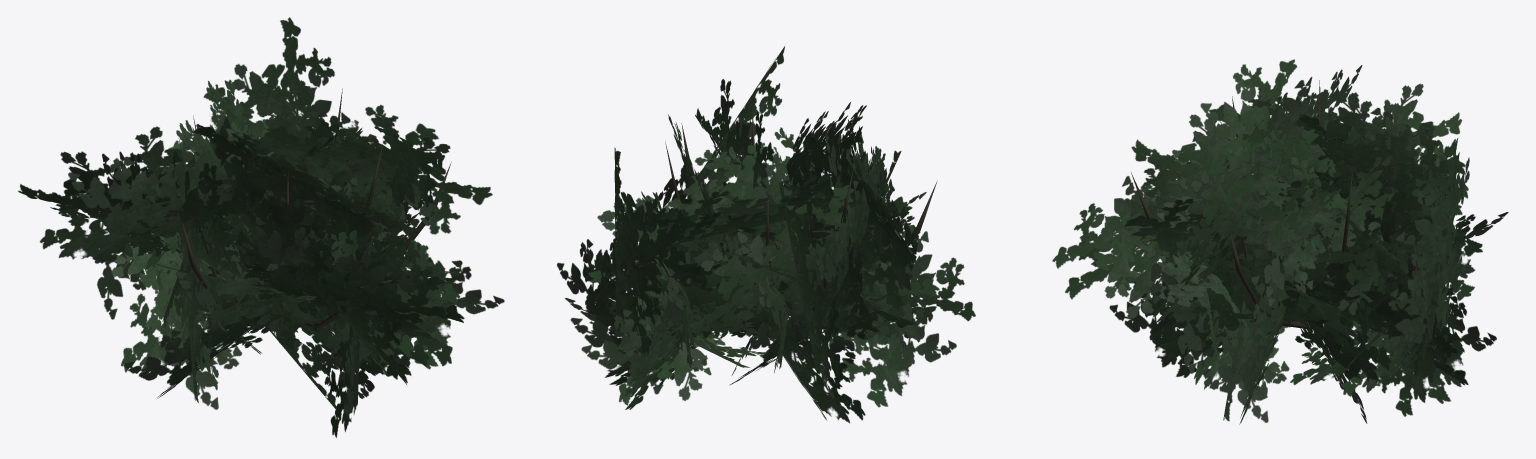
Rendered from bush02_01.glb.
3 views of the same model, side by side, from view 1: azimuth 30°, elevation 25°; view 2: azimuth 150°, elevation 25°; view 3: azimuth 270°, elevation 25° (orthographic). The views are drawn at different scales.
Parts seen in each view (by area): view 1: bush02_01; view 2: bush02_01; view 3: bush02_01.
Boxes of the visible parts, x1,y1,x2,y2 form: bush02_01: (18,17,504,437); bush02_01: (557,46,975,423); bush02_01: (1052,59,1508,424).
Bounding box in the file's own units: 6.81 × 6.17 × 7.94.
2 materials, 2 textured.
